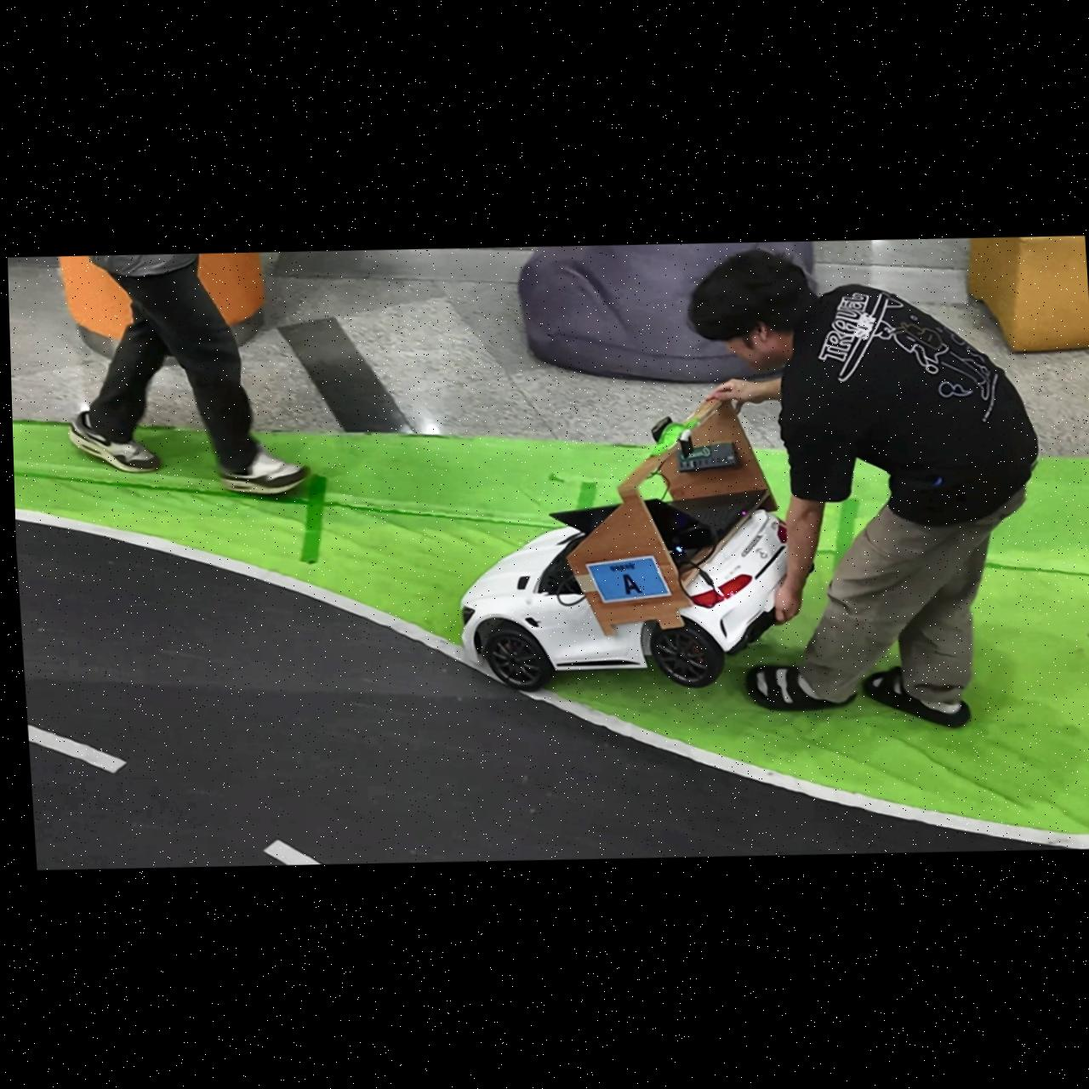broken_line: (27, 724, 126, 772), (264, 839, 320, 864)
